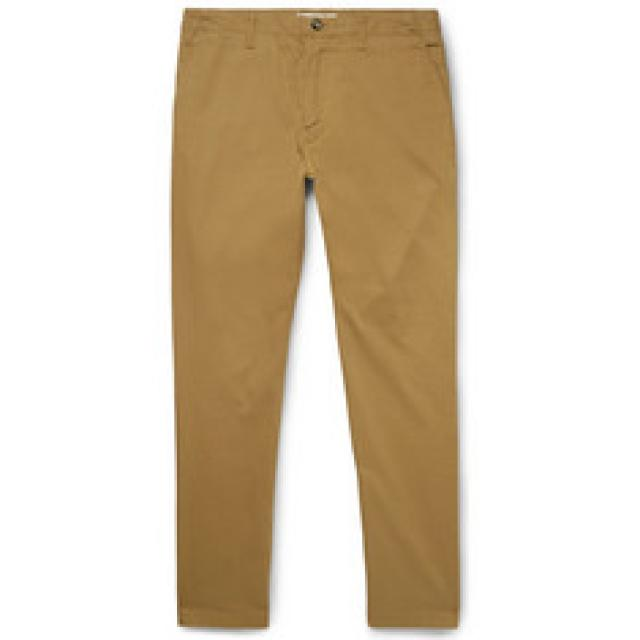long-pants: (172, 8, 460, 637)
